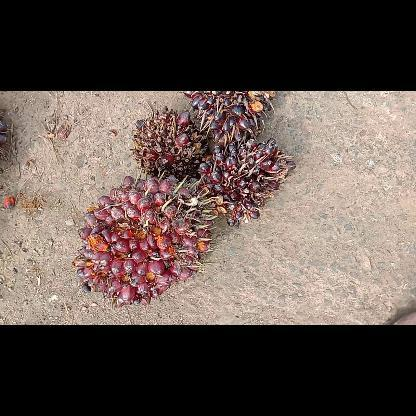TBS abnormal: (202, 140, 294, 228), (132, 108, 202, 174), (185, 91, 275, 141)
TBS masak: (74, 175, 212, 307)
